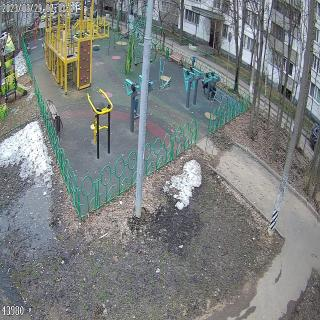Car: (309, 122, 320, 150)
